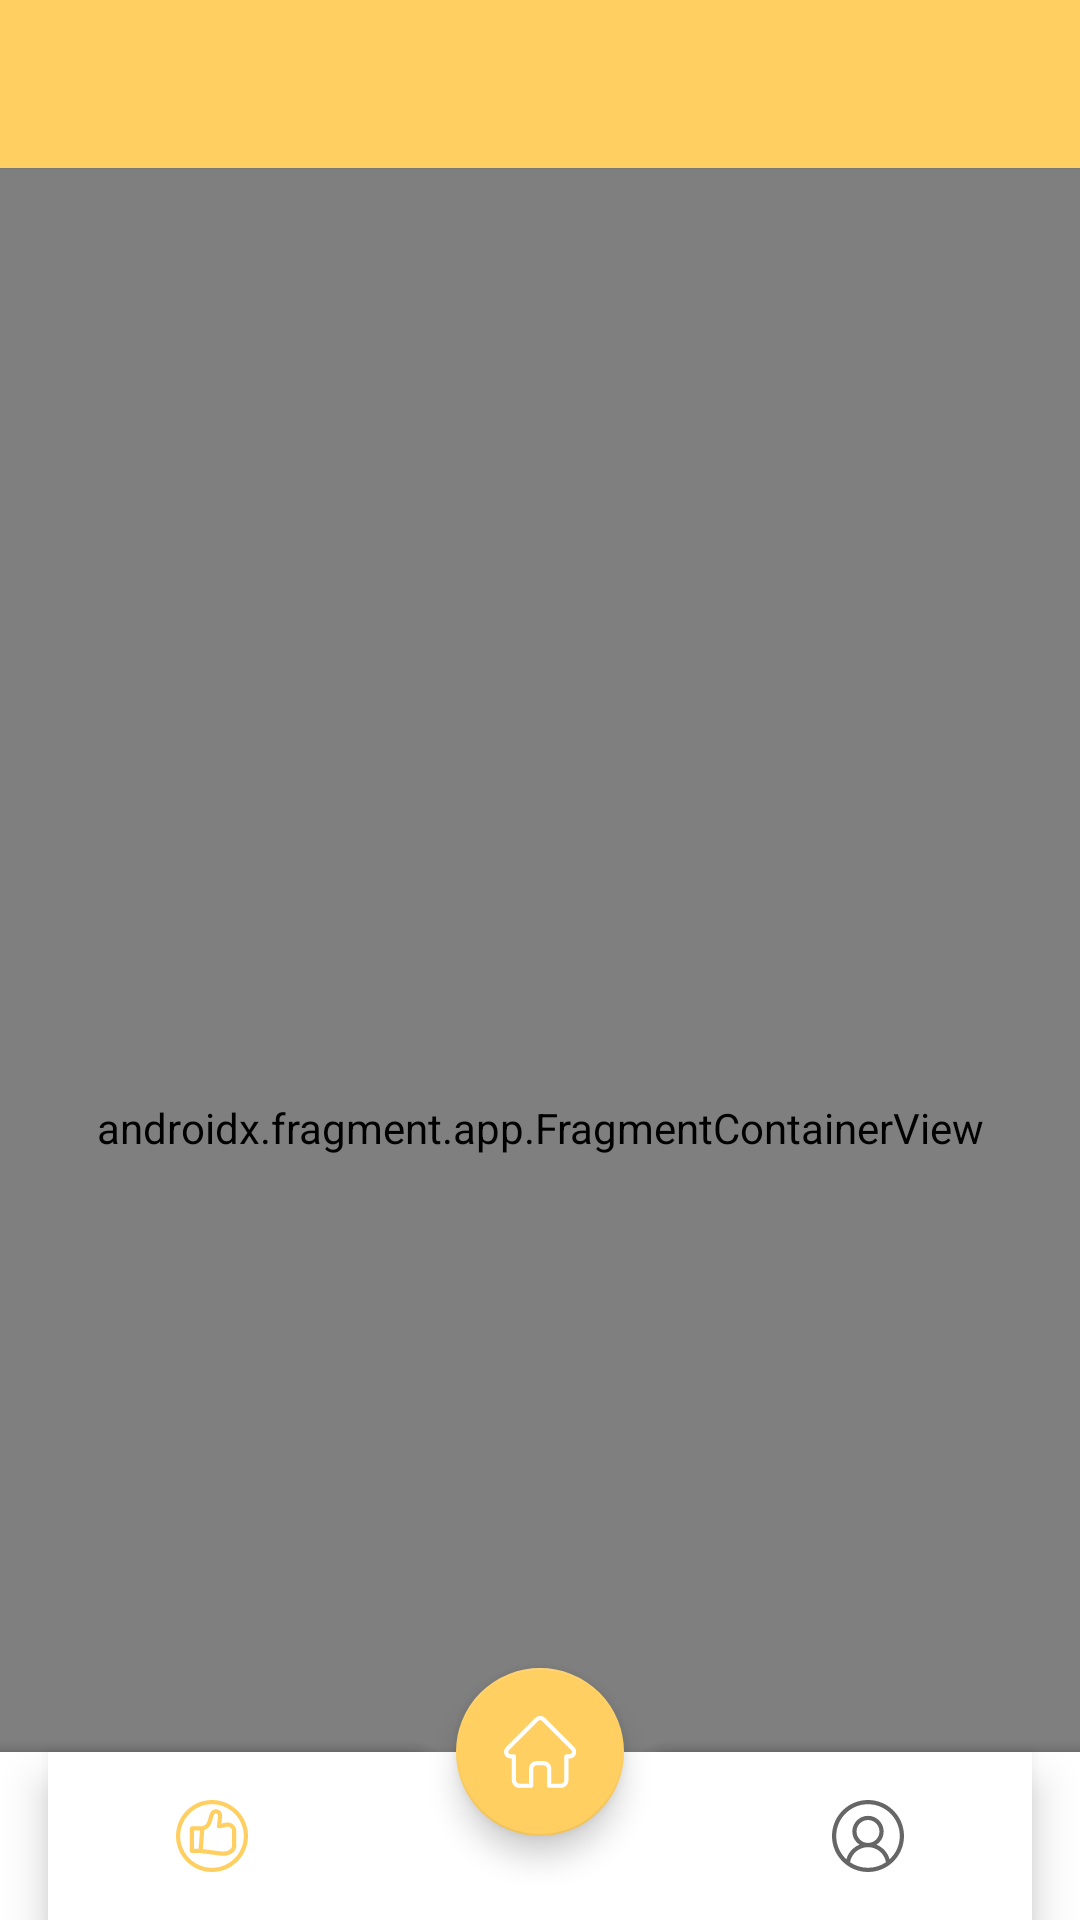

Screen size 1080 × 1920. Icon name, then its center in pixels as (x,y):
Home: (540,1752)
